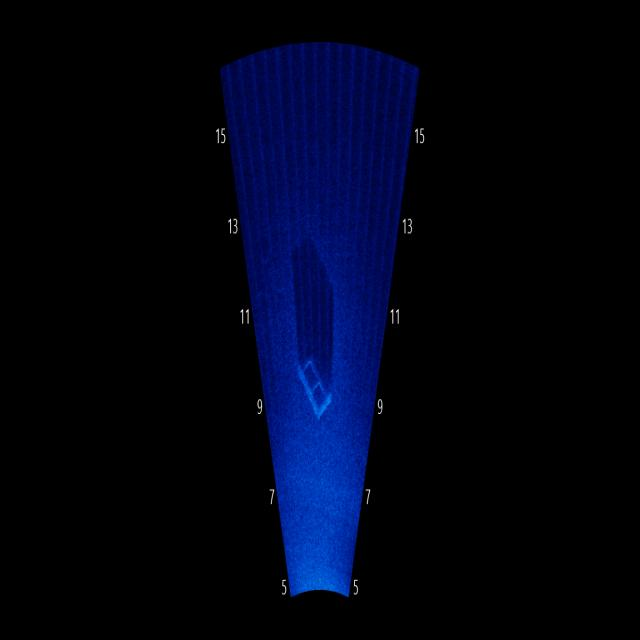square: (295, 348, 337, 423)
